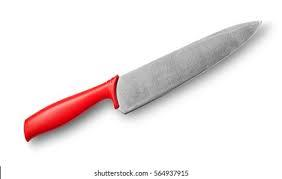Knife: (23, 18, 262, 142)
